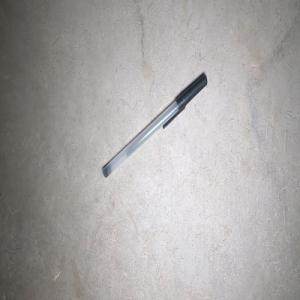Pen: (102, 74, 207, 177)
